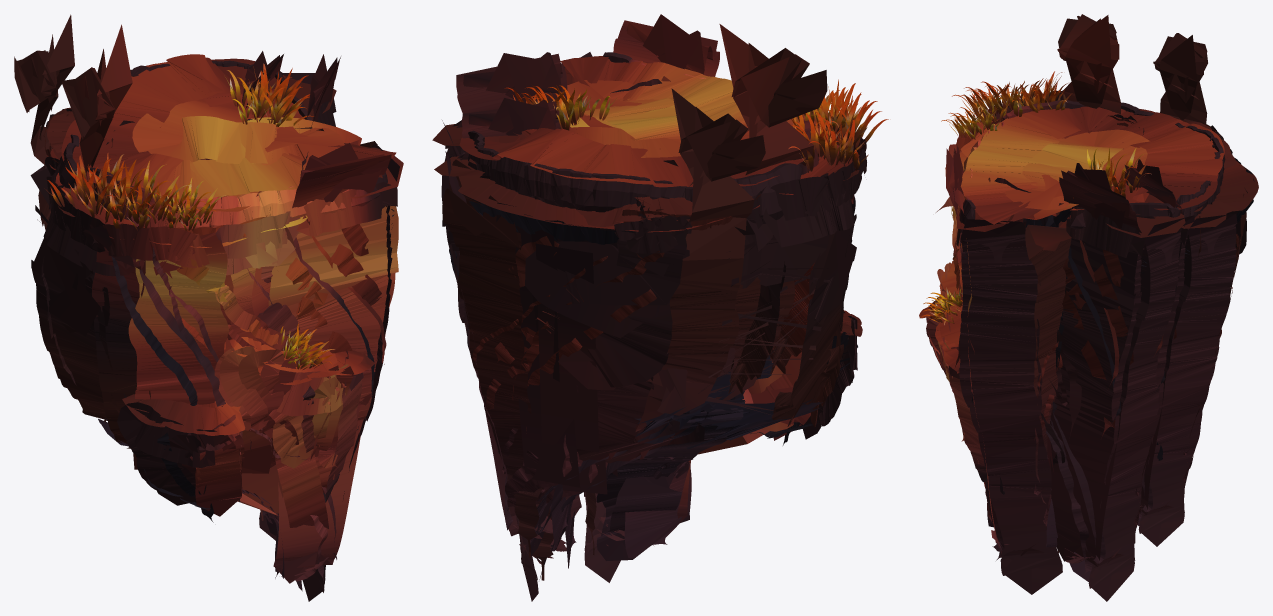
Rendered from Island_World2_03.fbx.
The picture shows the model from 3 angles, left to right: view 1: azimuth 30°, elevation 25°; view 2: azimuth 150°, elevation 25°; view 3: azimuth 270°, elevation 25°; orthographic projection. The views are drawn at different scales.
Parts seen in each view (by area): view 1: Grass03; view 2: Grass03; view 3: Grass03.
Part boxes in pixels (left/top/right/bottom): Grass03: left=14, top=14, right=403, bottom=601; Grass03: left=432, top=14, right=888, bottom=601; Grass03: left=919, top=14, right=1258, bottom=601.
Bounding box in the file's own units: 0.6835 × 1.1 × 0.655.
